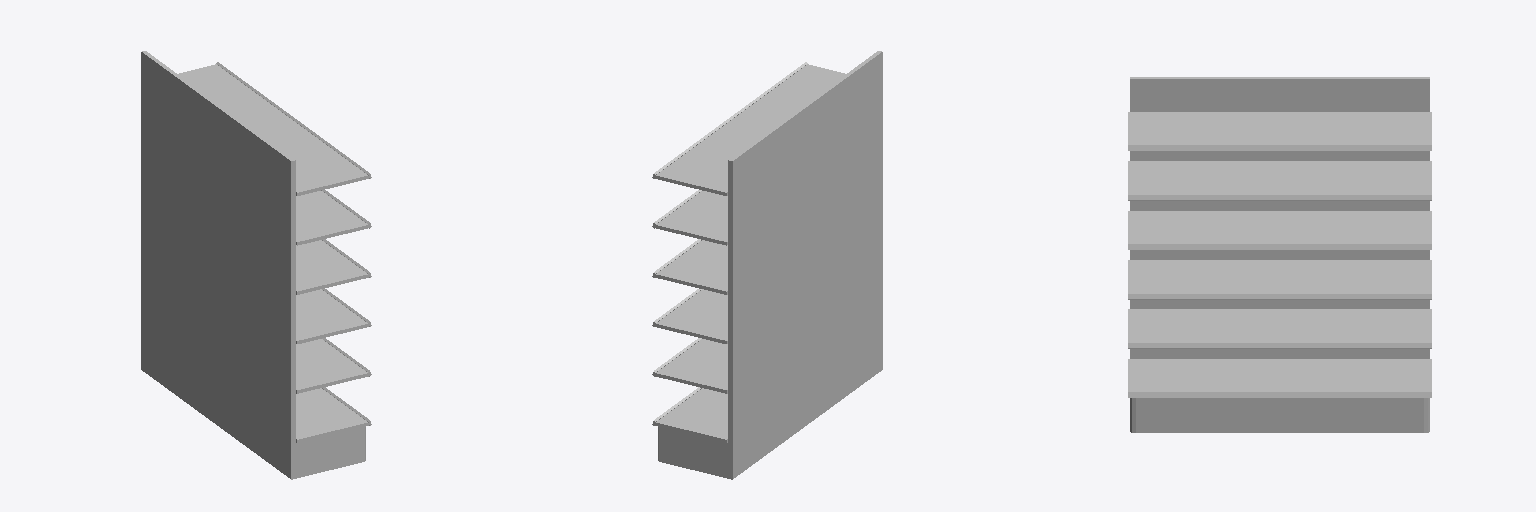
Rendered from Shelf_mid_6.obj.
3 views of the same model, side by side, from view 1: azimuth 30°, elevation 25°; view 2: azimuth 150°, elevation 25°; view 3: azimuth 270°, elevation 25° (orthographic).
Visible parts, largest first — view 1: Shelf_mid_6_Cube.016; view 2: Shelf_mid_6_Cube.016; view 3: Shelf_mid_6_Cube.016.
Boxes of the visible parts, <box> form: Shelf_mid_6_Cube.016: <box>141,51,371,479</box>; Shelf_mid_6_Cube.016: <box>652,51,882,479</box>; Shelf_mid_6_Cube.016: <box>1128,77,1431,432</box>.
Bounding box in the file's own units: 1.04 × 4 × 3.47.